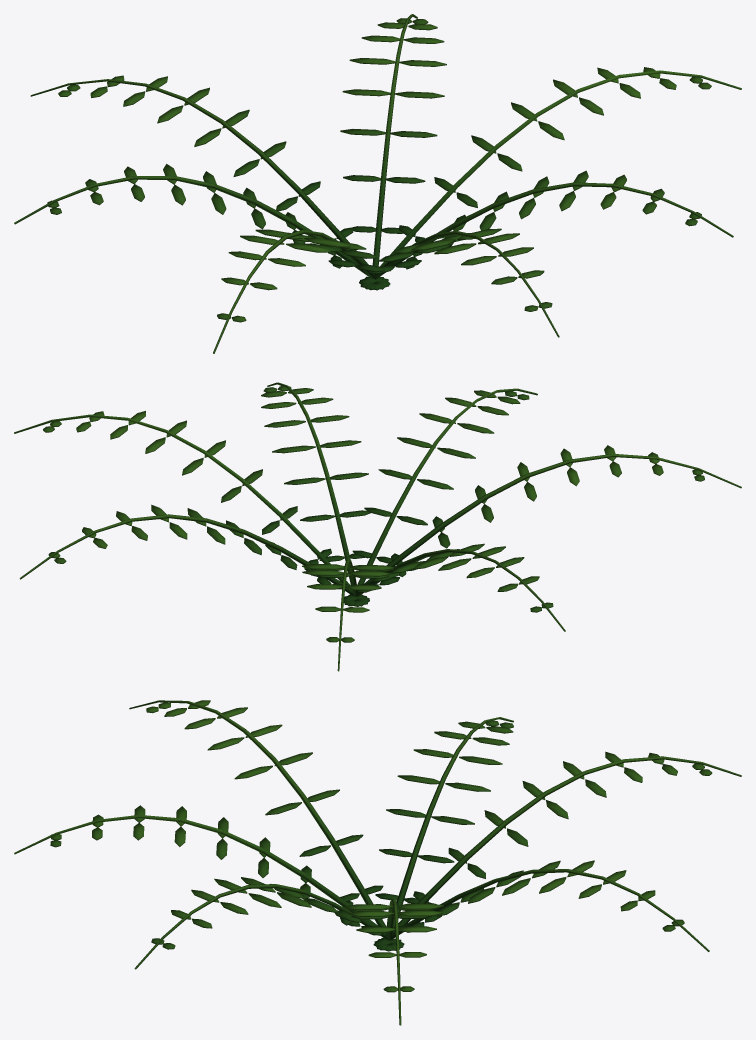
File: Fern.glb
The picture shows the model from 3 angles, top to bottom: view 1: azimuth 30°, elevation 25°; view 2: azimuth 150°, elevation 25°; view 3: azimuth 270°, elevation 25°; orthographic projection. The views are drawn at different scales.
Visible parts, largest first — view 1: Fronds; view 2: Fronds; view 3: Fronds.
Part boxes in pixels (<box>): Fronds: <box>14,14,741,353</box>; Fronds: <box>14,382,741,671</box>; Fronds: <box>14,700,741,1025</box>.
Size of the model in its own units: 1.06 by 0.2221 by 1.03.
